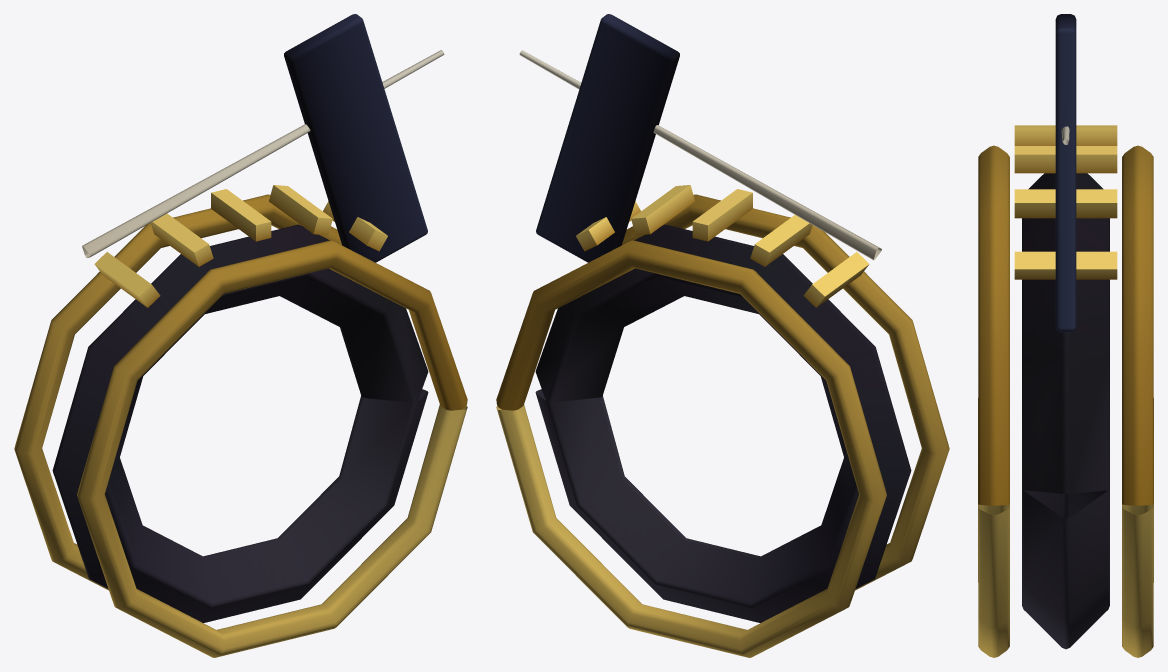
The model's file is lg_auditor_ledgerband.glb.
The picture shows the model from 3 angles, left to right: view 1: azimuth 30°, elevation 25°; view 2: azimuth 150°, elevation 25°; view 3: azimuth 270°, elevation 25°; orthographic projection. The views are drawn at different scales.
Parts seen in each view (by area): view 1: lg_auditor_ledgerband, lg_auditor_ledgerband_trim; view 2: lg_auditor_ledgerband, lg_auditor_ledgerband_trim; view 3: lg_auditor_ledgerband, lg_auditor_ledgerband_trim.
Part boxes in pixels (box(x1,y1,x2,y2)): lg_auditor_ledgerband: box(14, 14, 467, 657); lg_auditor_ledgerband_trim: box(94, 185, 387, 307); lg_auditor_ledgerband: box(496, 14, 949, 657); lg_auditor_ledgerband_trim: box(576, 185, 869, 307); lg_auditor_ledgerband: box(978, 14, 1153, 657); lg_auditor_ledgerband_trim: box(1014, 125, 1117, 279).
Bounding box in the file's own units: 0.512 × 0.7098 × 0.171.
